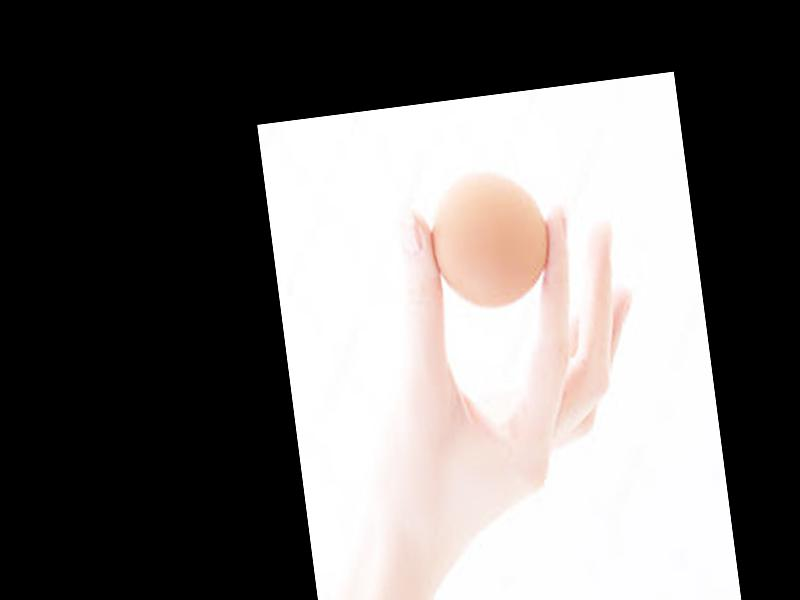Eggs: (423, 166, 557, 311)
